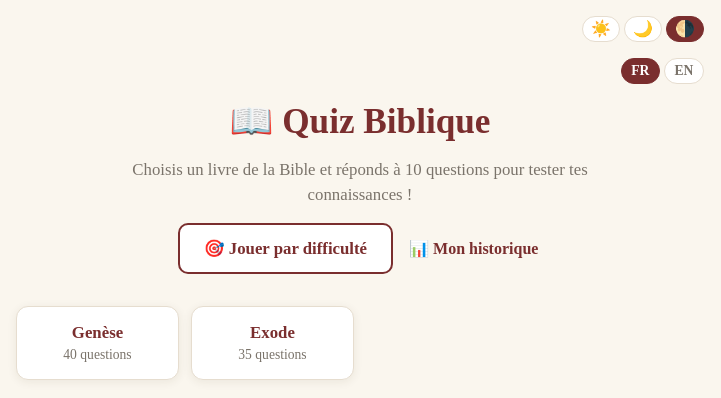
App - history › from home, "Mon historique" shows the history screen
This screenshot has width=721, height=398.
Click the button "📊 Mon historique" at point(474, 248), box [405, 233, 542, 264]
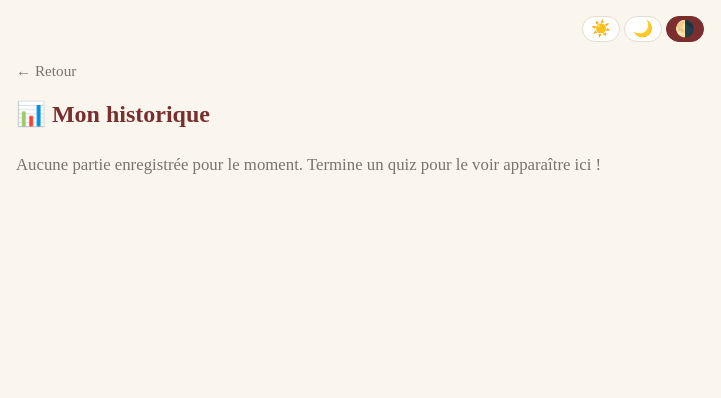
Expected: the heading "📊 Mon historique" is shown, [16, 101, 210, 127]
Now the text "Aucune partie enregistrée pour le moment. Termine un quiz pour le voir apparaître ici !" is shown, box [16, 155, 601, 174]
